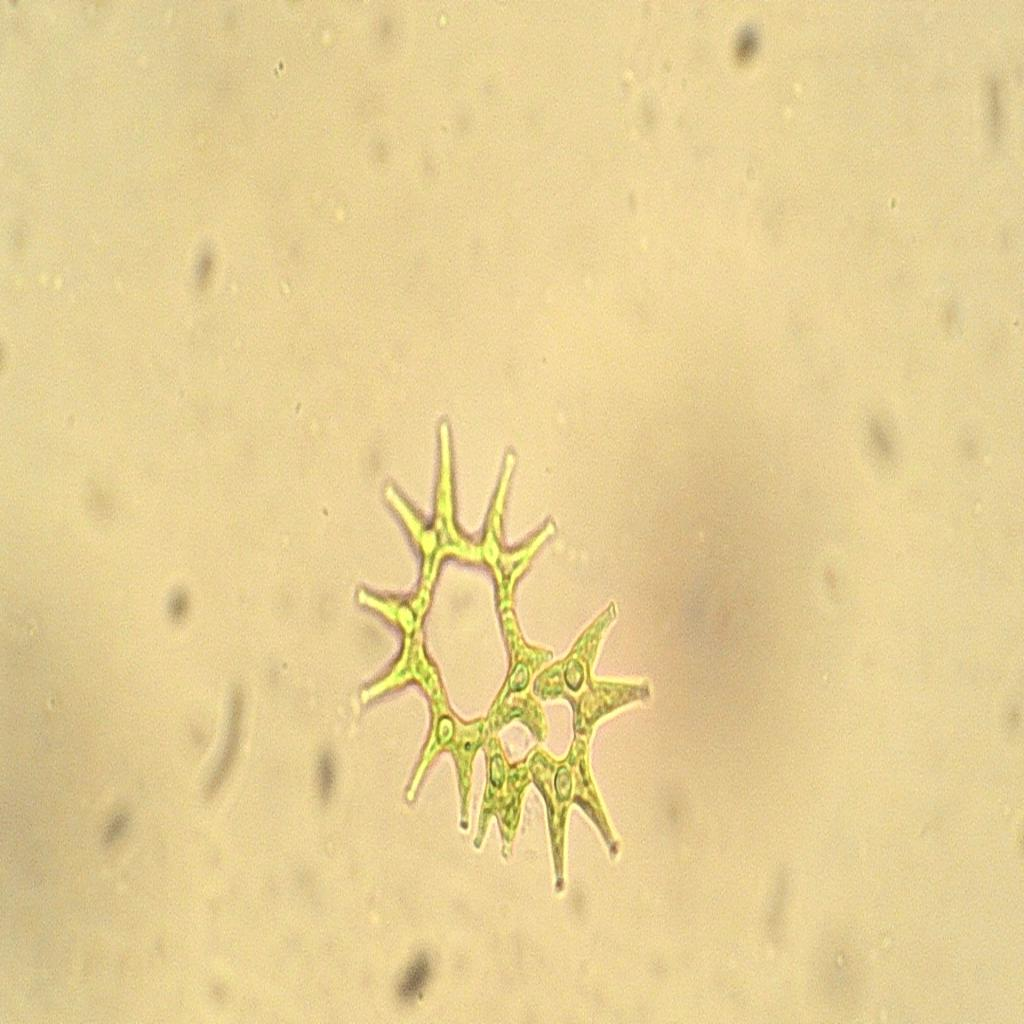Pediastrum_CFI: (314, 406, 674, 918)
